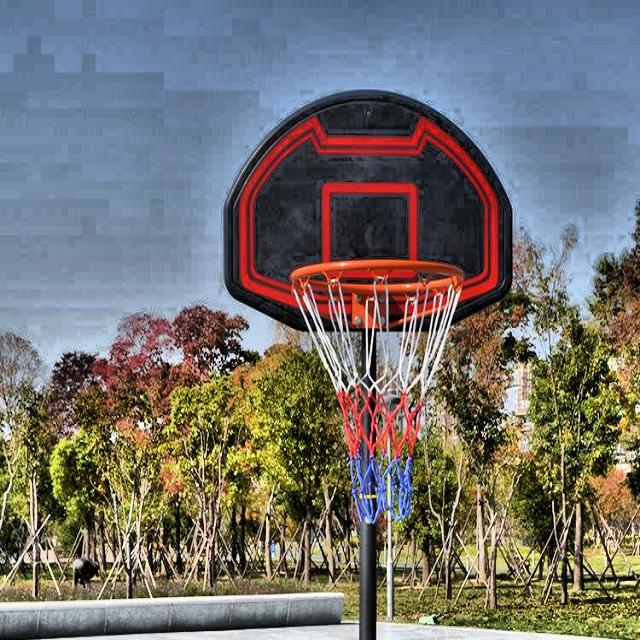rim: (286, 259, 466, 523)
